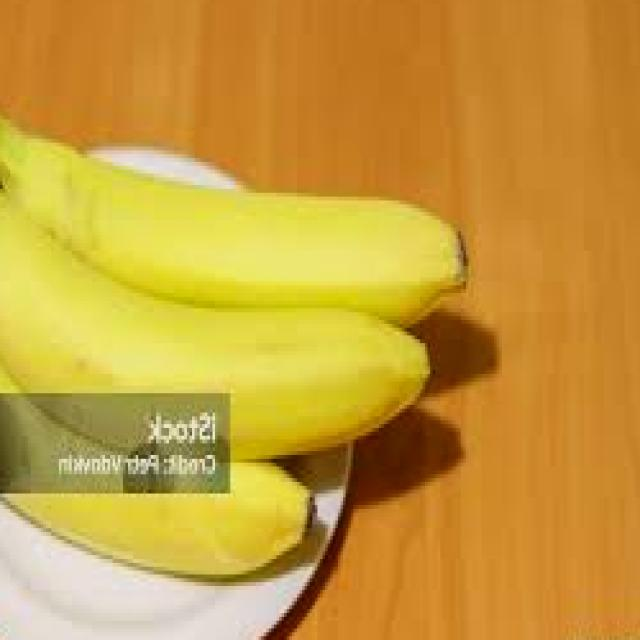pisang: (0, 119, 487, 551)
